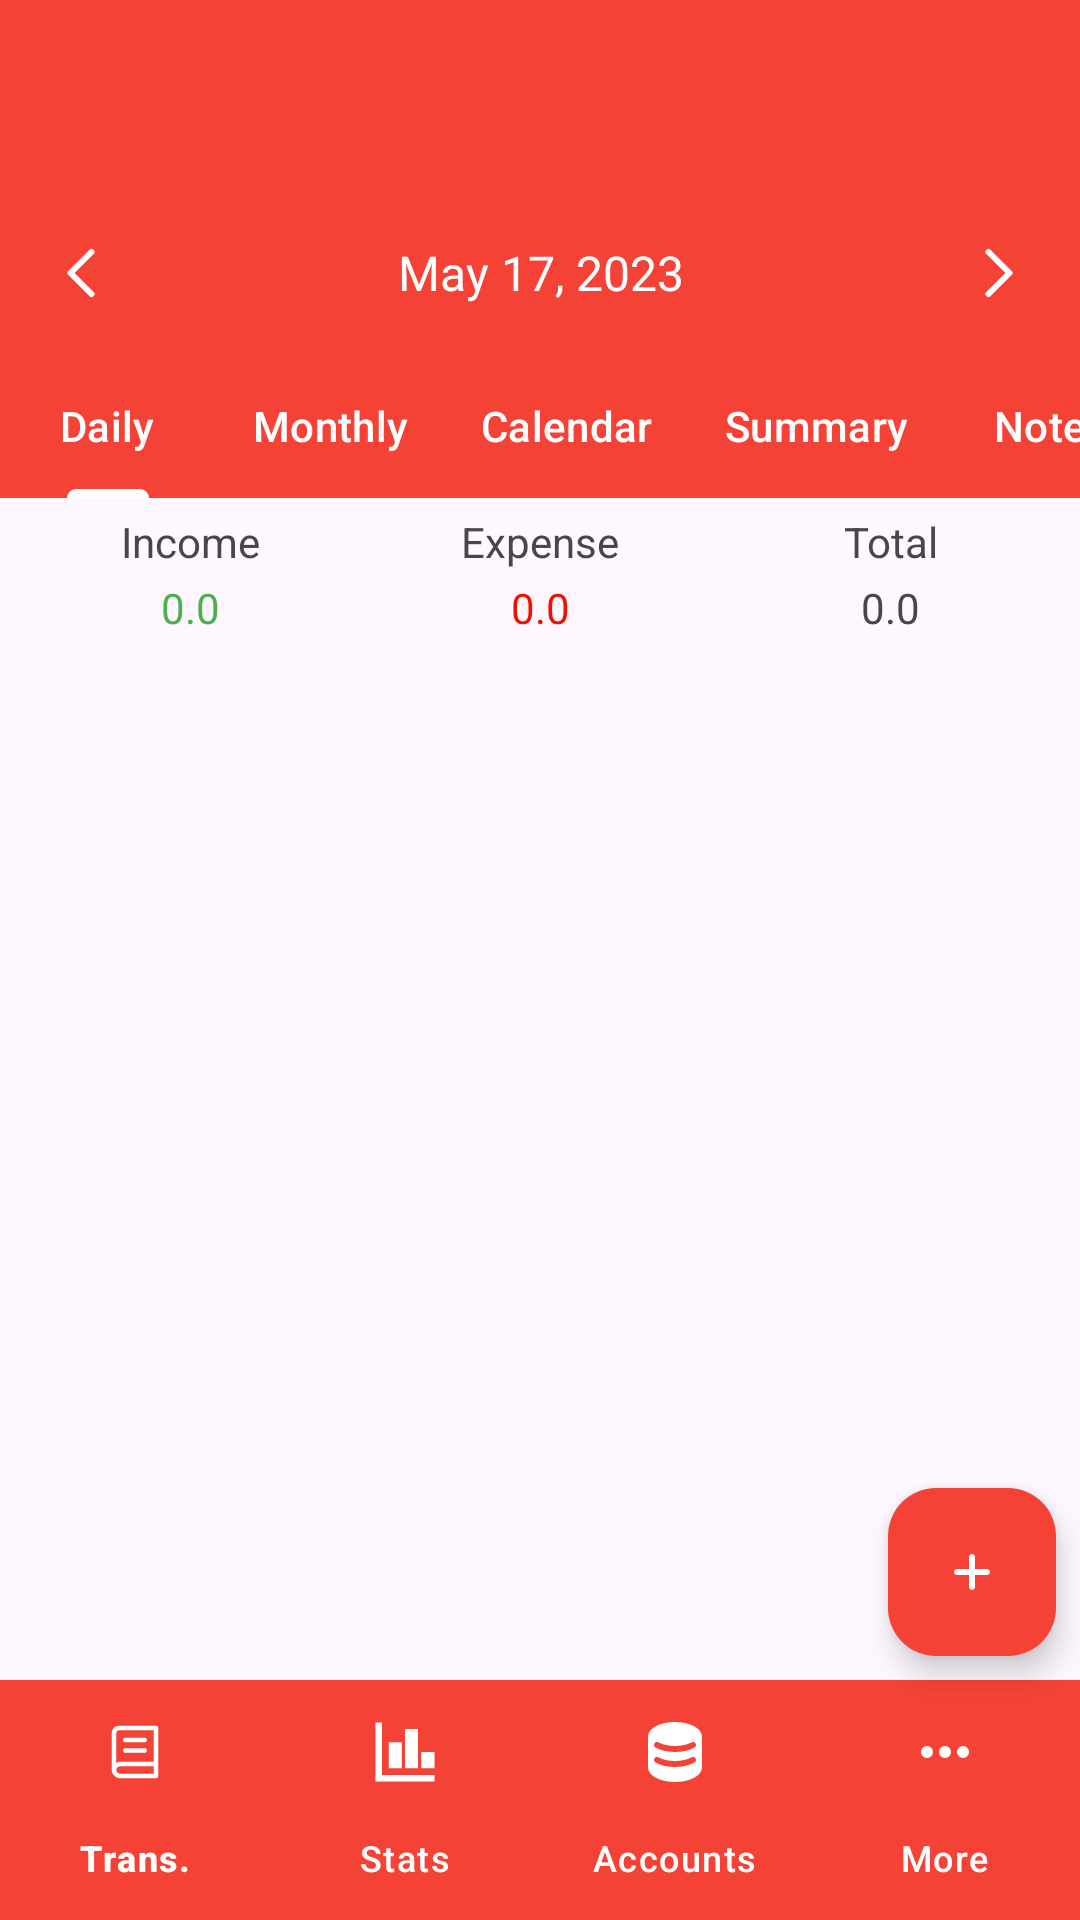

Screen size 1080 x 1920. Icon name, then its box in pixels as (x1, y1, x2, y2):
plus: (888, 1488, 1056, 1656)
